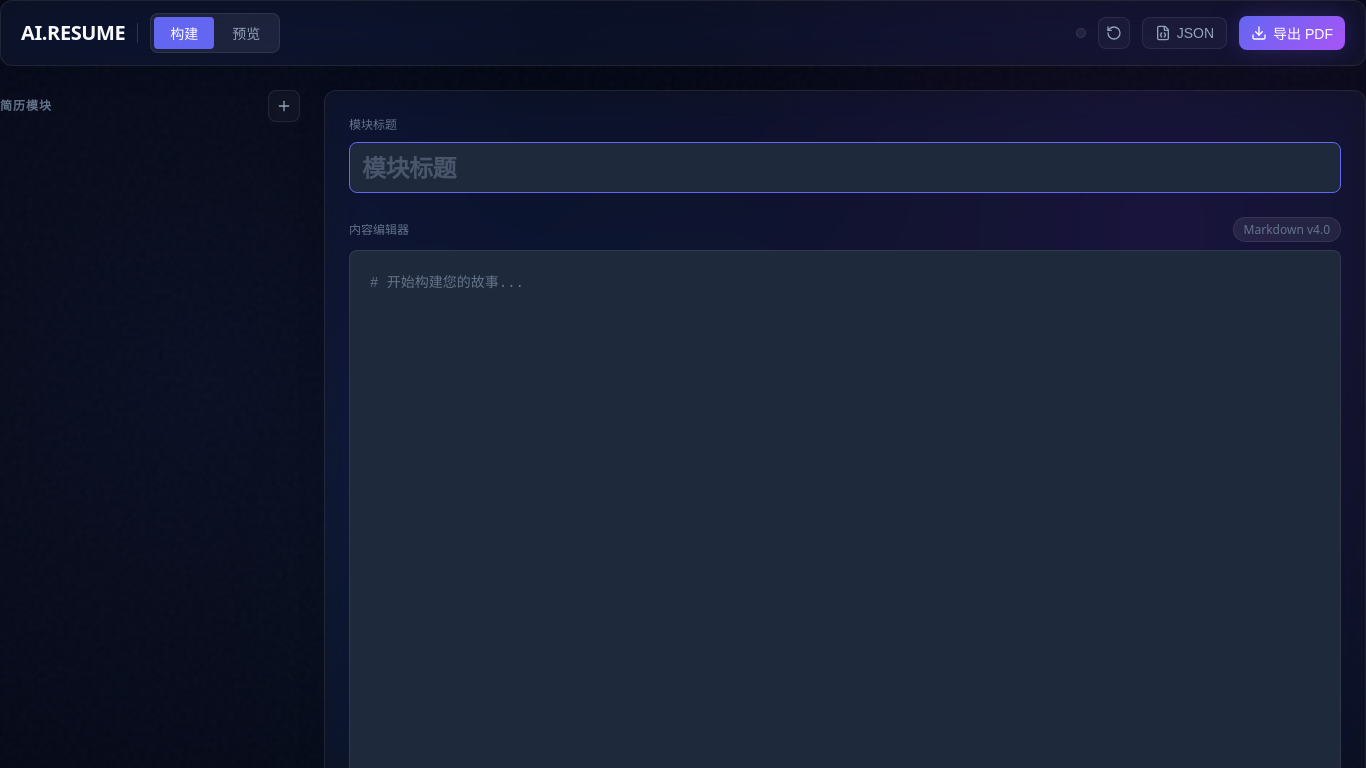
Test: ResumeBuilder › should switch between Build and Preview modes
The width and height of the screenshot is (1366, 768).
Check: the text "内容编辑器" is shown, box 349,220 -> 409,239
// Switch to Preview
Click the tab "预览" at point(246, 33), box 216,17 -> 276,49
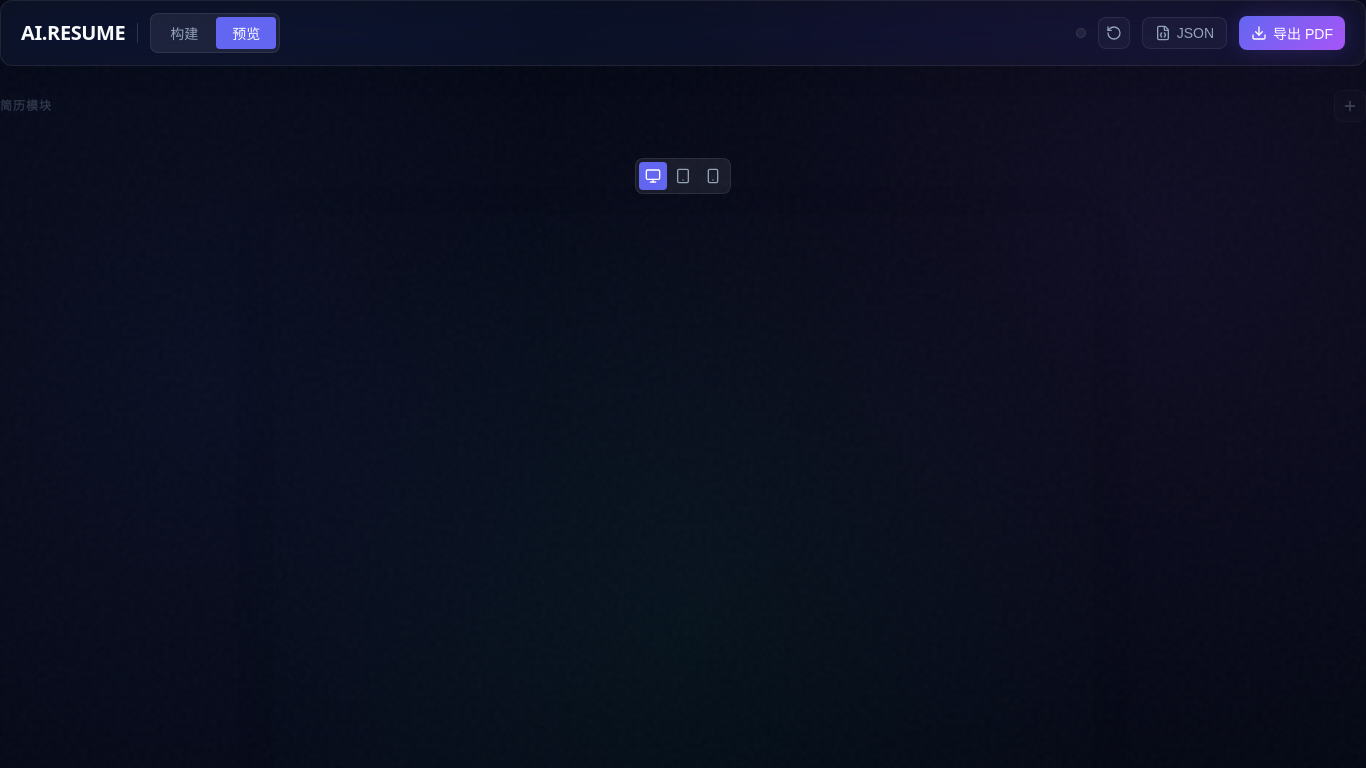
Check: the text "内容编辑" is gone
